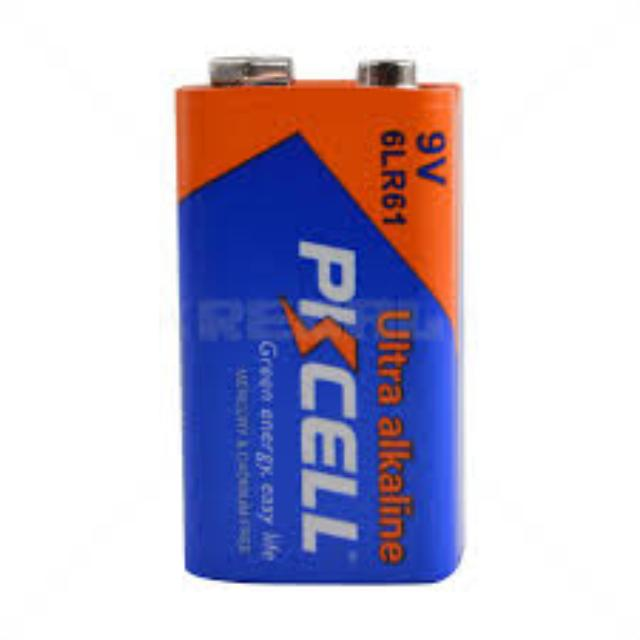Battery: (174, 57, 466, 586)
